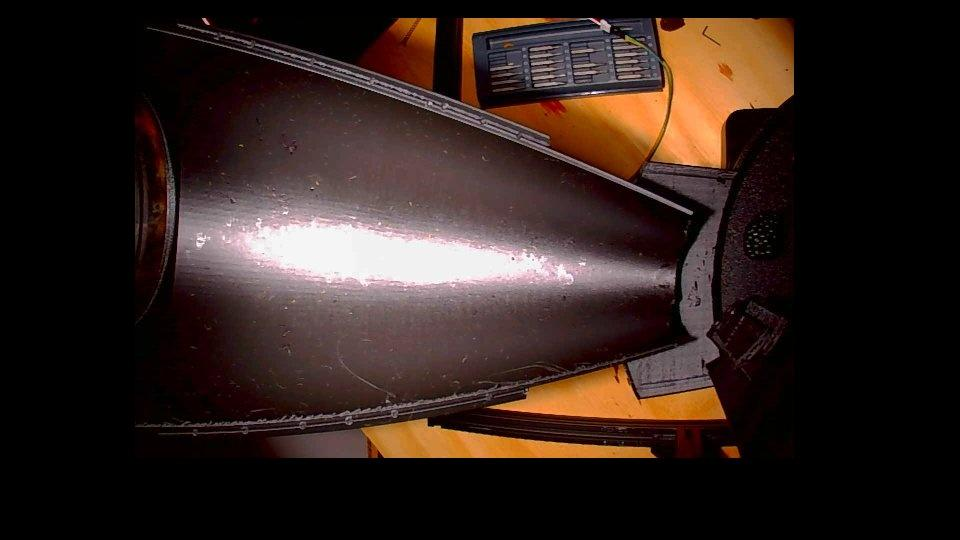berry: (744, 213, 783, 259)
